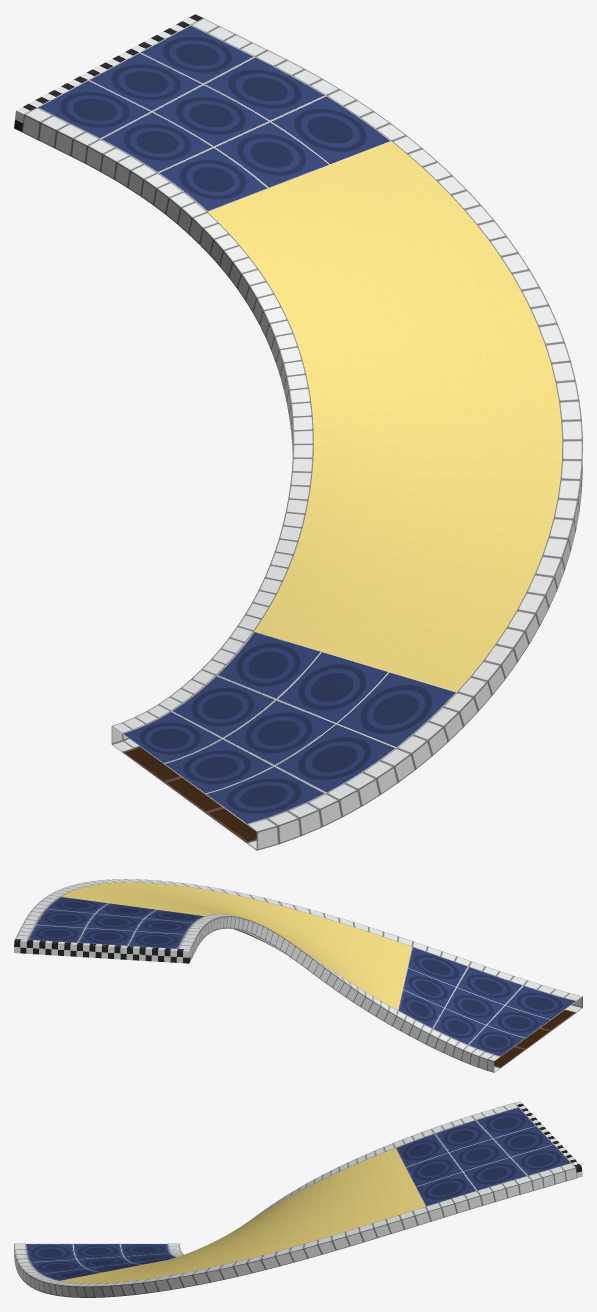
The model's file is NonLinearCurve2.obj.
3 views of the same model, one above another, from view 1: azimuth 30°, elevation 25°; view 2: azimuth 150°, elevation 25°; view 3: azimuth 270°, elevation 25° (orthographic). The views are drawn at different scales.
Visible parts, largest first — view 1: Cube.001_Cube; view 2: Cube.001_Cube; view 3: Cube.001_Cube.
Boxes of the visible parts, x1,y1,x2,y2 form: Cube.001_Cube: [14, 14, 582, 850]; Cube.001_Cube: [14, 879, 582, 1072]; Cube.001_Cube: [14, 1101, 582, 1297].
Size of the model in its own units: 14.72 by 9.77 by 24.02.
